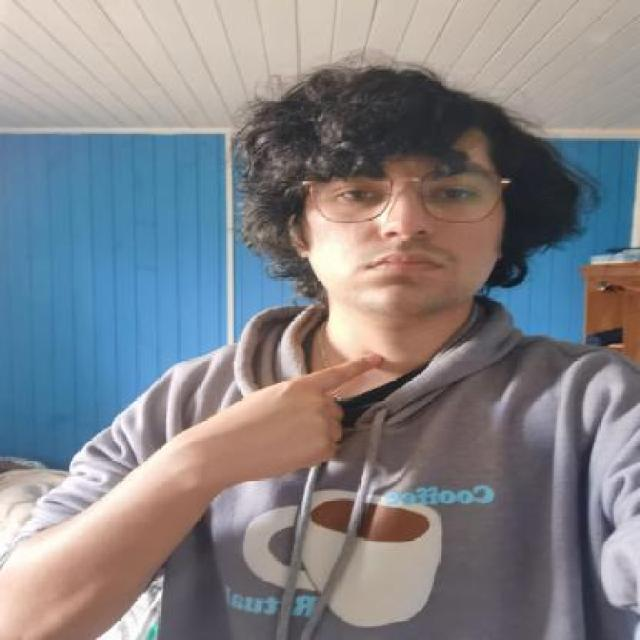Q: (205, 343, 380, 477)
